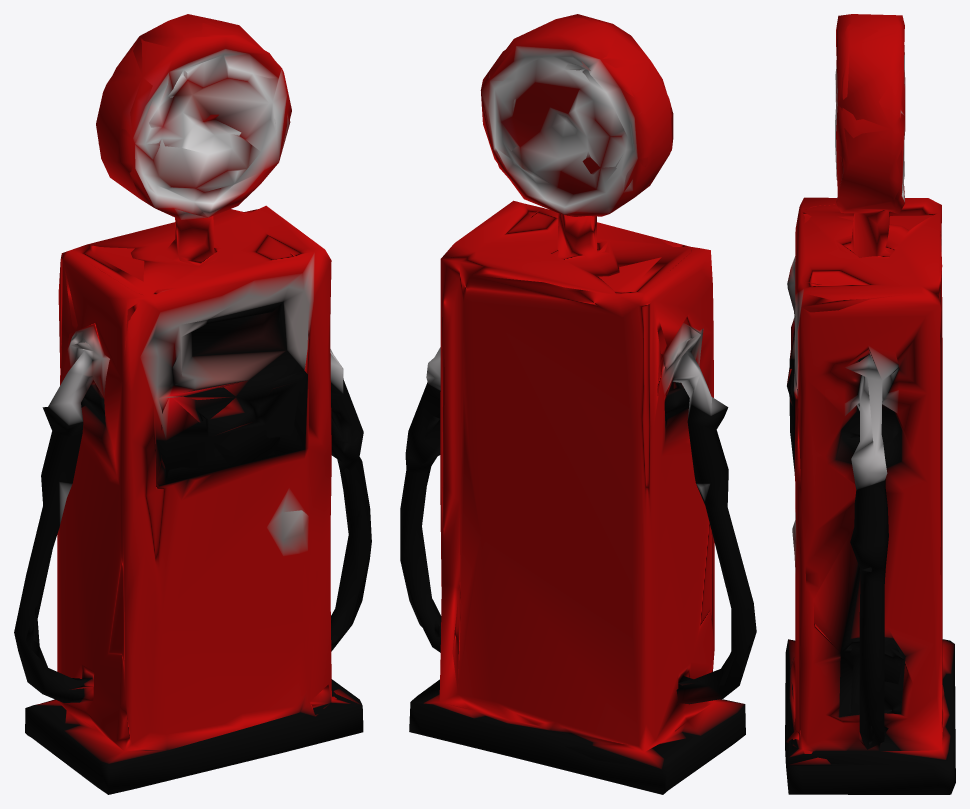
Rendered from gen3d-gas-pump-lod0.glb.
3 views of the same model, side by side, from view 1: azimuth 30°, elevation 25°; view 2: azimuth 150°, elevation 25°; view 3: azimuth 270°, elevation 25° (orthographic).
Parts seen in each view (by area): view 1: part_0; view 2: part_0; view 3: part_0.
Part boxes in pixels (<box>): part_0: <box>14,14,371,794</box>; part_0: <box>400,14,756,794</box>; part_0: <box>785,14,955,794</box>.
Bounding box in the file's own units: 0.5221 × 0.9973 × 0.2172.
